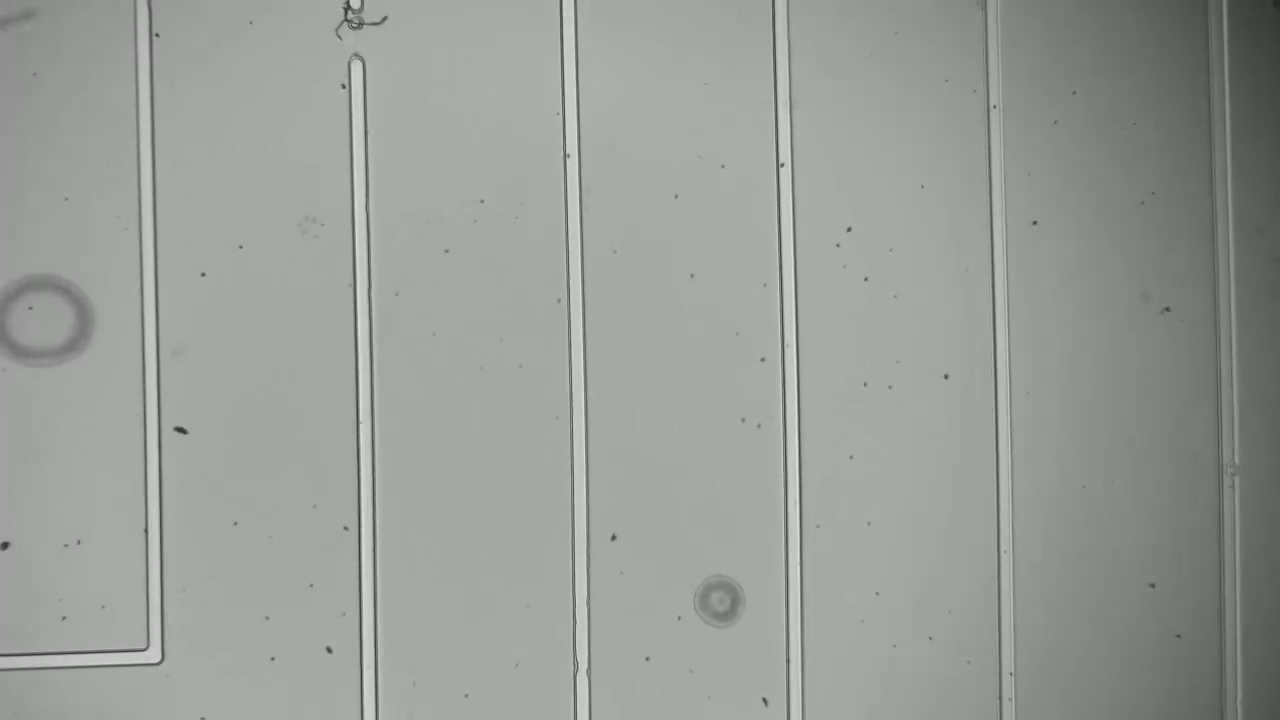edge_bite: (560, 646, 604, 690)
open: (321, 1, 389, 75)
